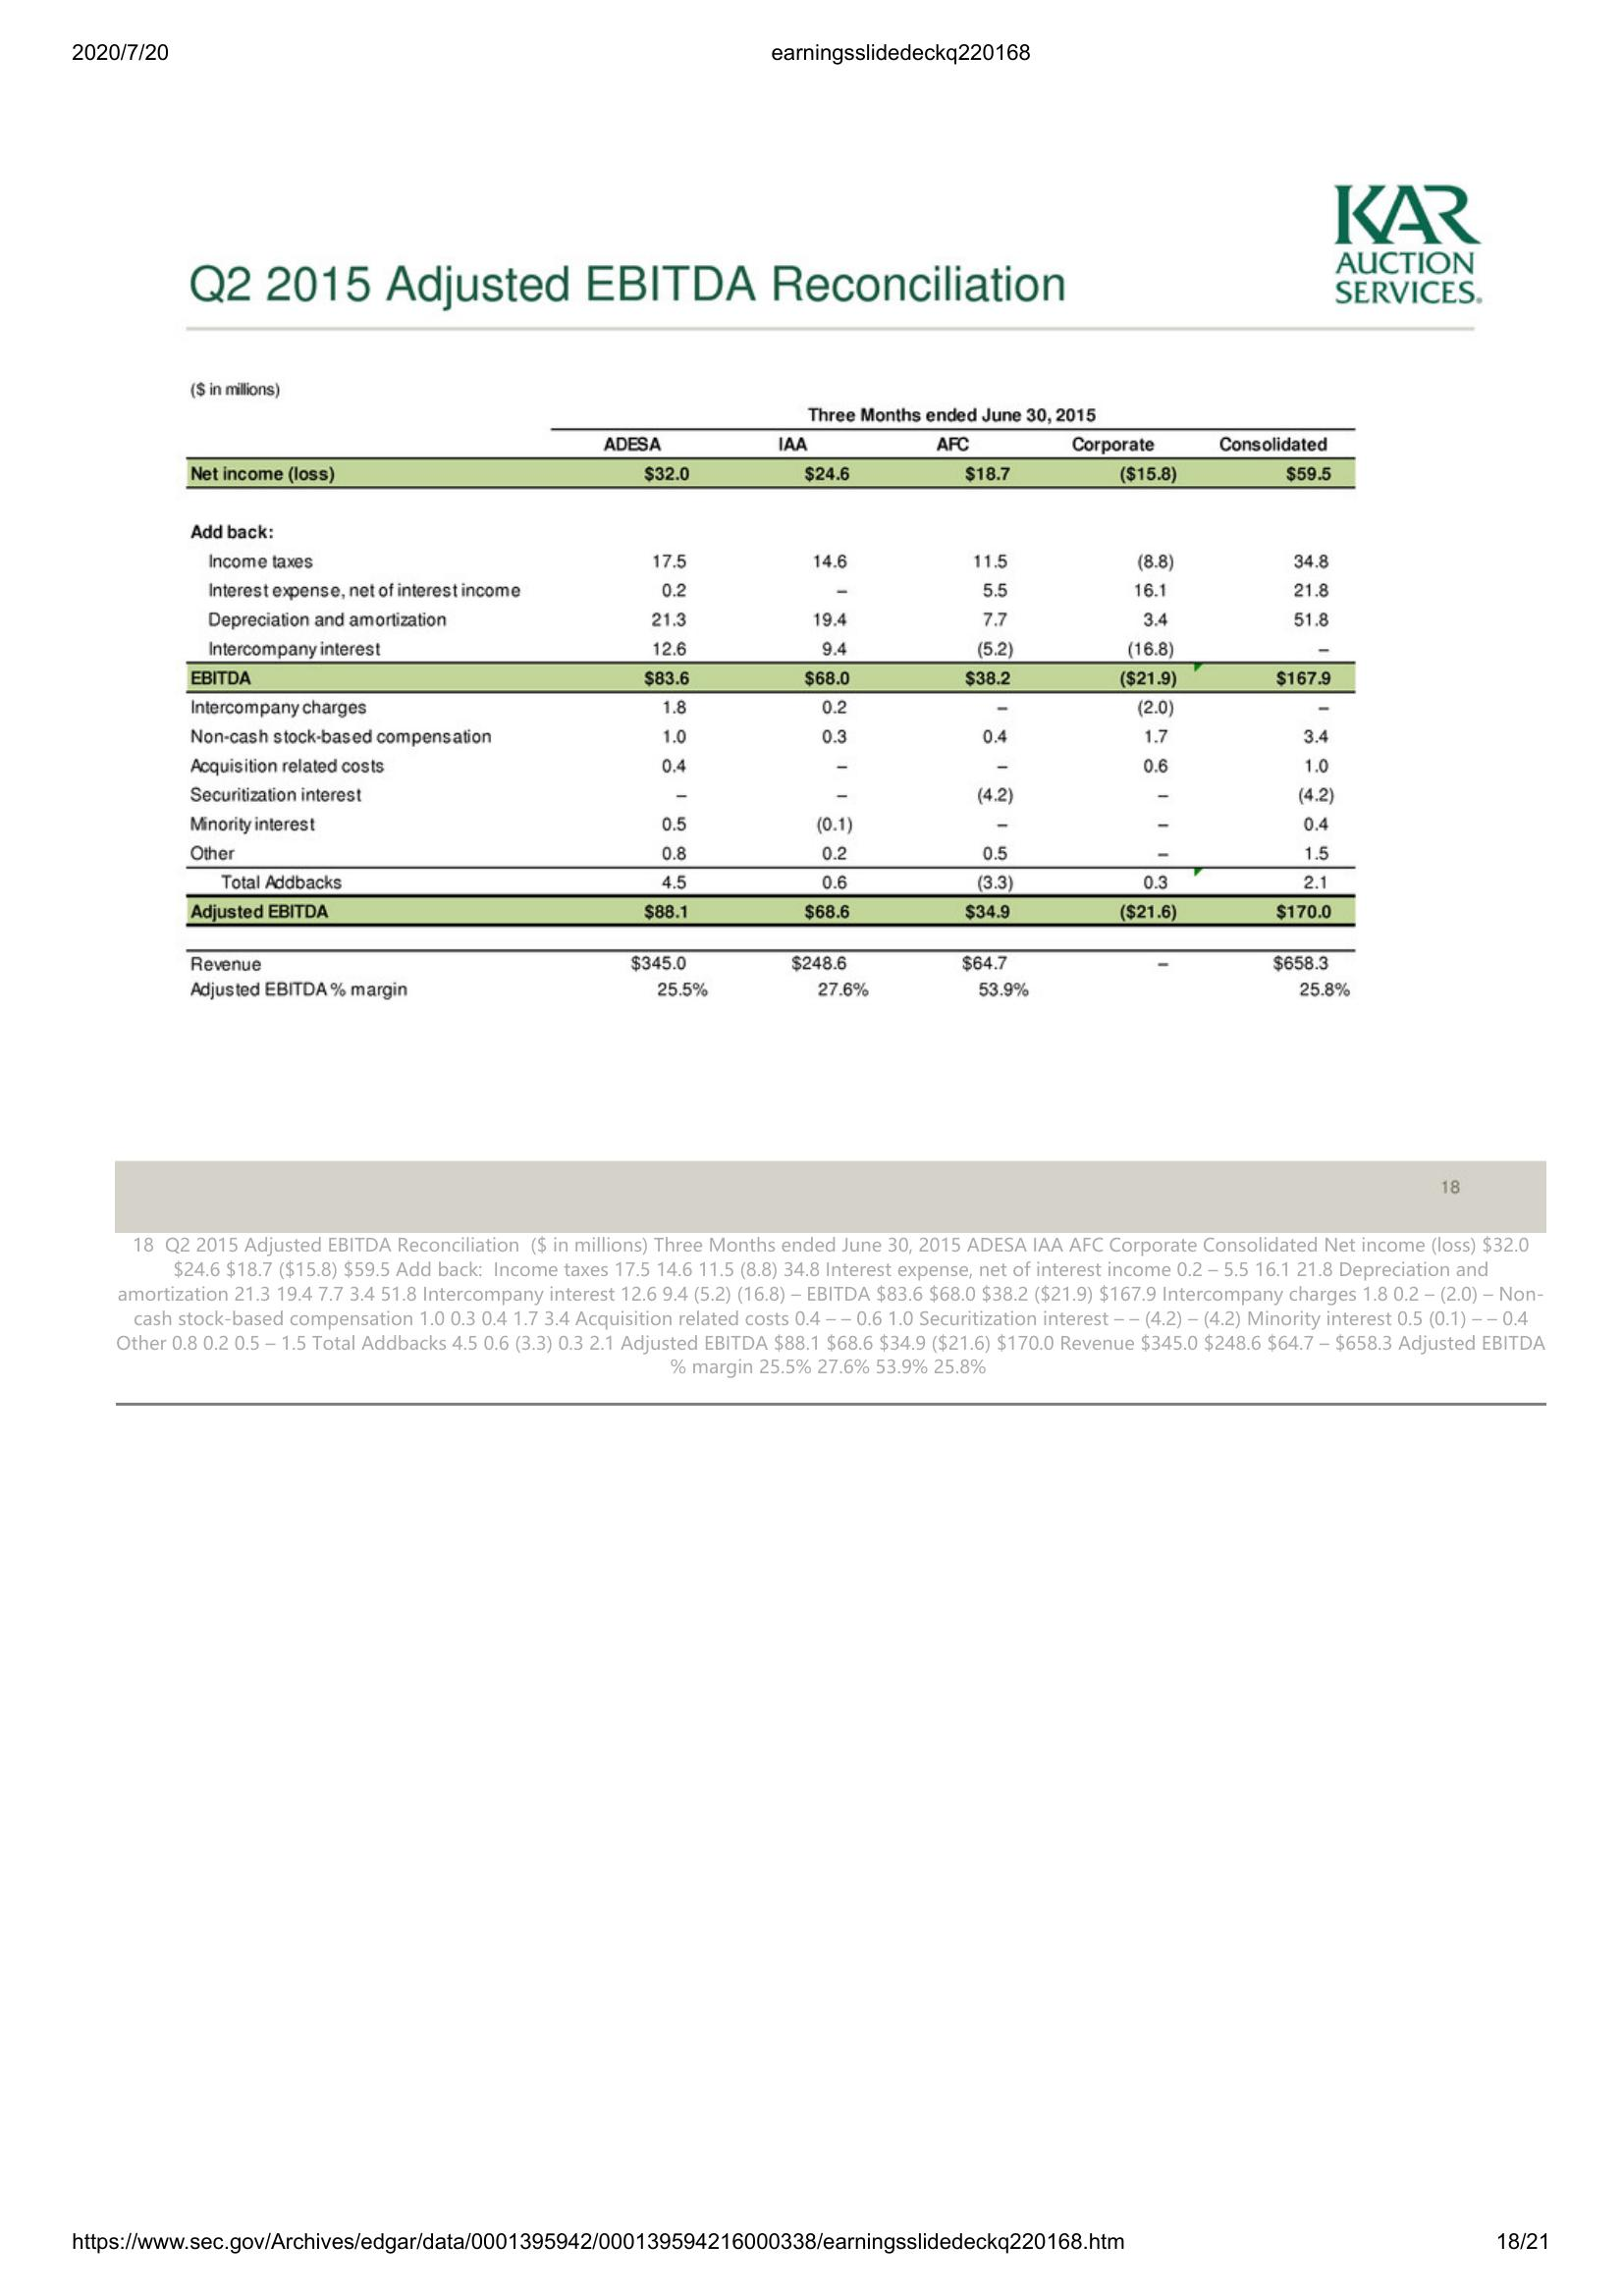table: (181, 404, 1358, 1002)
